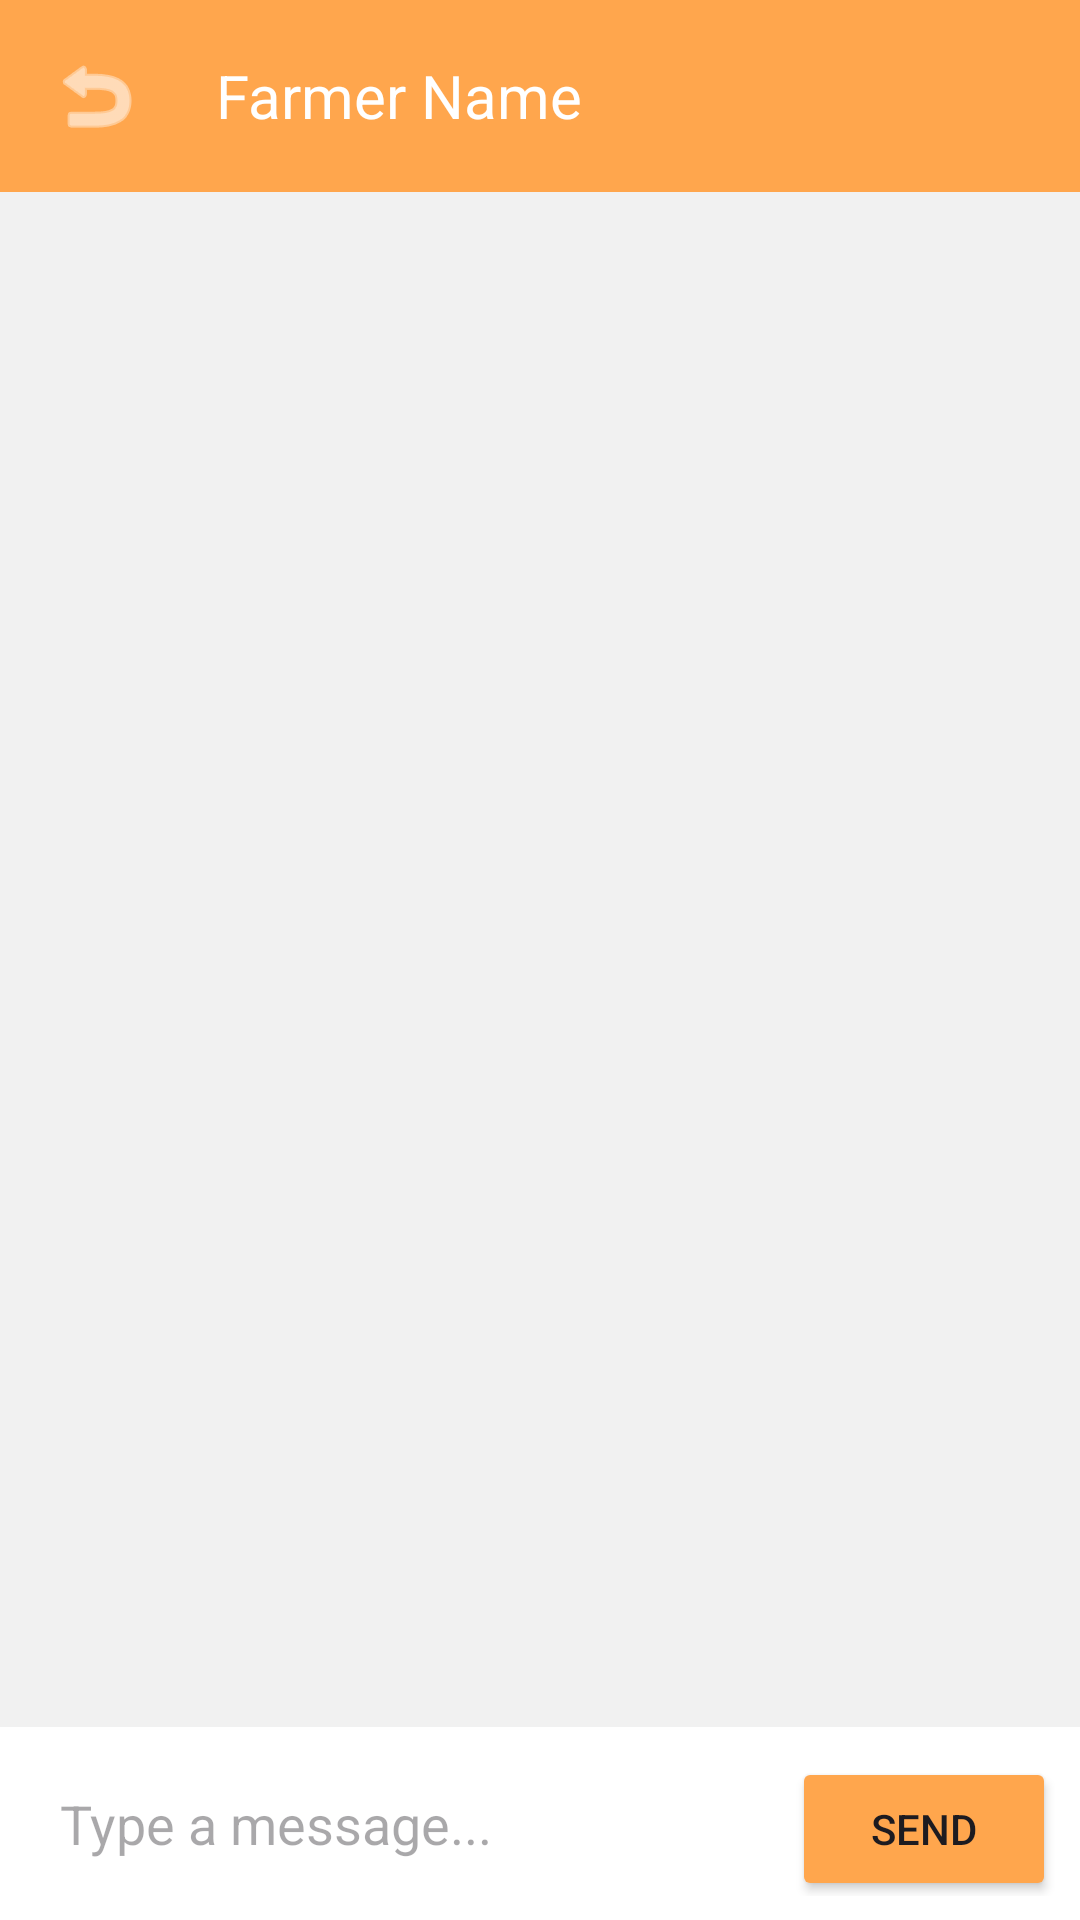

Screen size 1080 × 1920. Icon name, then its center in pixels as [x,y]:
Back: [97,96]
